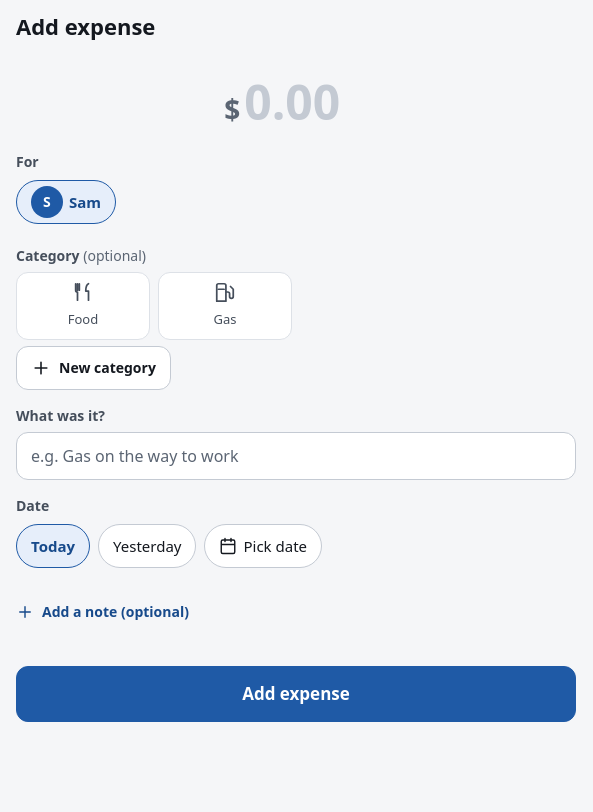
Test case: AddExpensePage dates, errors and retries › lists what to fix in an announced summary and marks the fields
This screenshot has width=593, height=812.
Expected: the field named "Amount" is shown, [244,72,368,132]
Expected: the radio button labelled "S Sam" is shown, [16,180,116,224]
Click the button "Add expense".
click(296, 694)  # box [16,666,576,722]
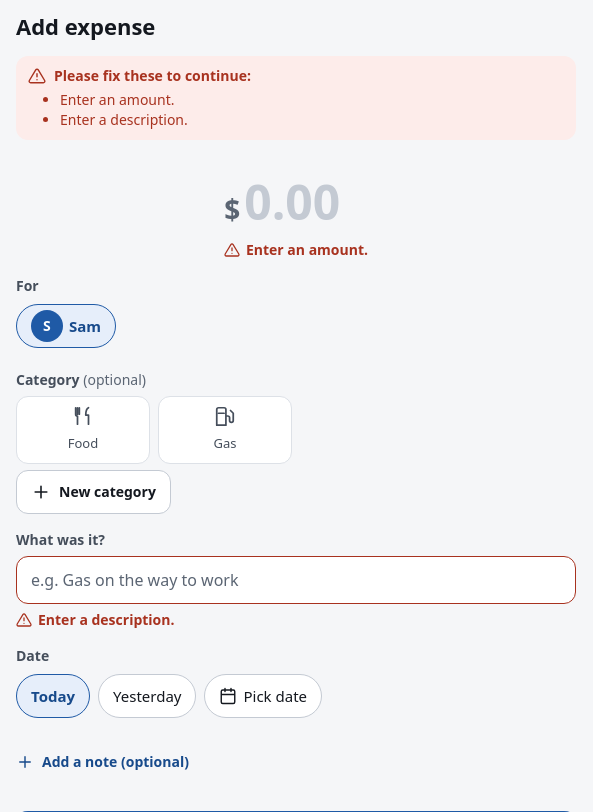
Now the message shows "Enter a description.", box [60,110,188,129]
